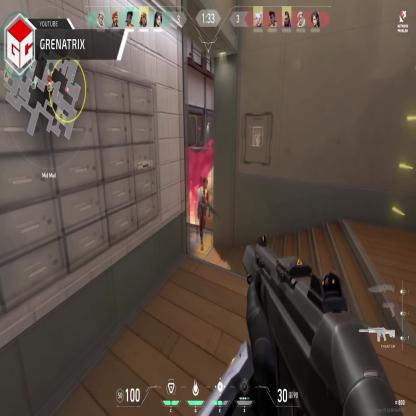enemy: (196, 178, 210, 250)
enemy_head: (203, 178, 208, 189)
